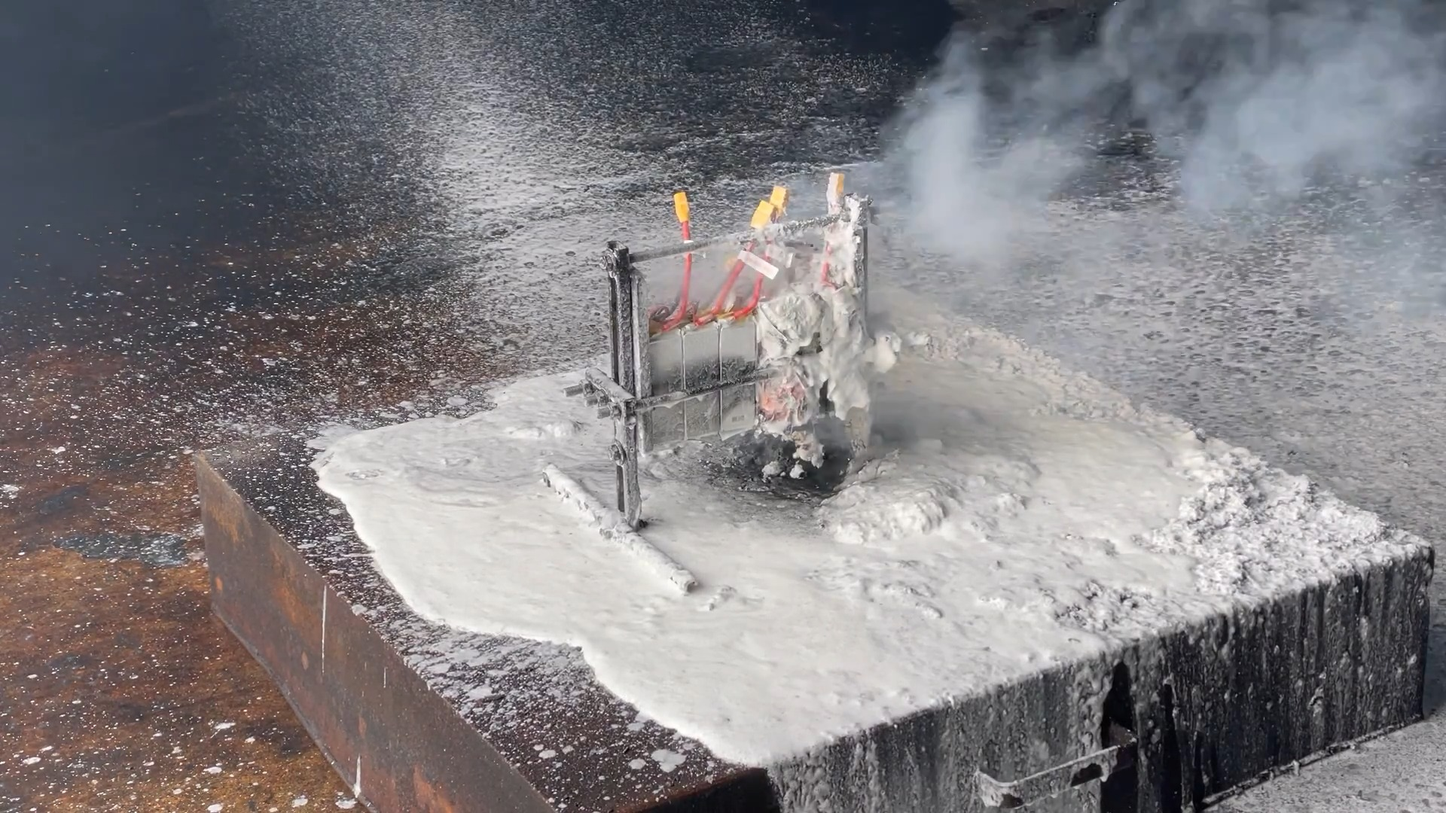smoke: (866, 2, 1444, 319)
